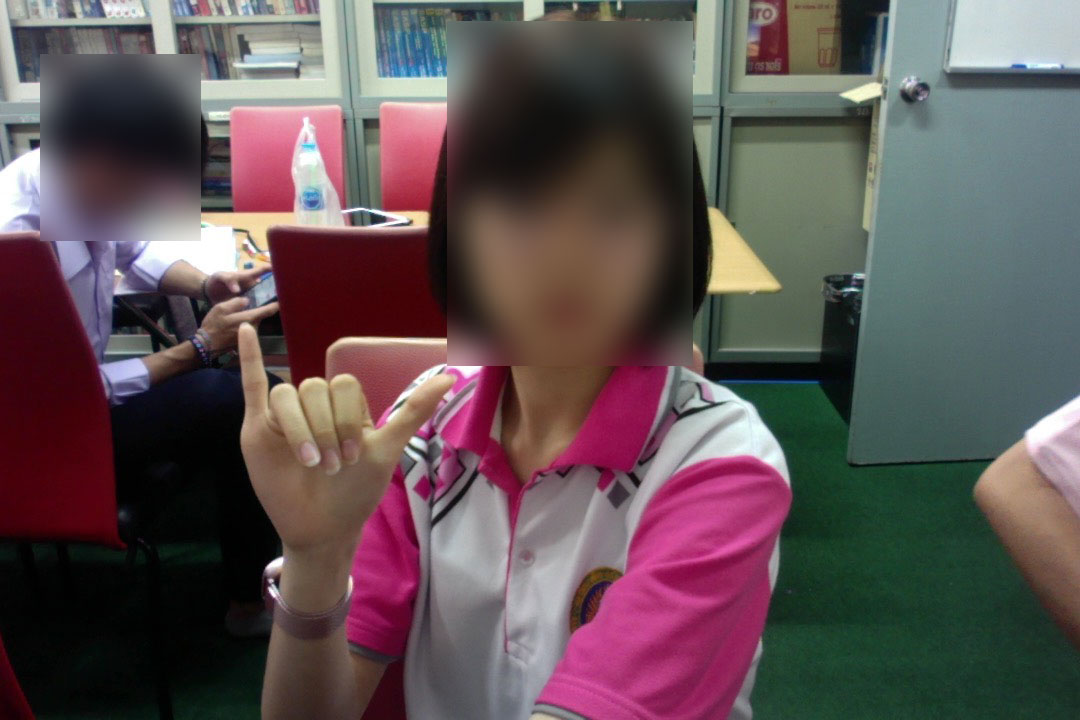yor: (223, 315, 461, 561)
